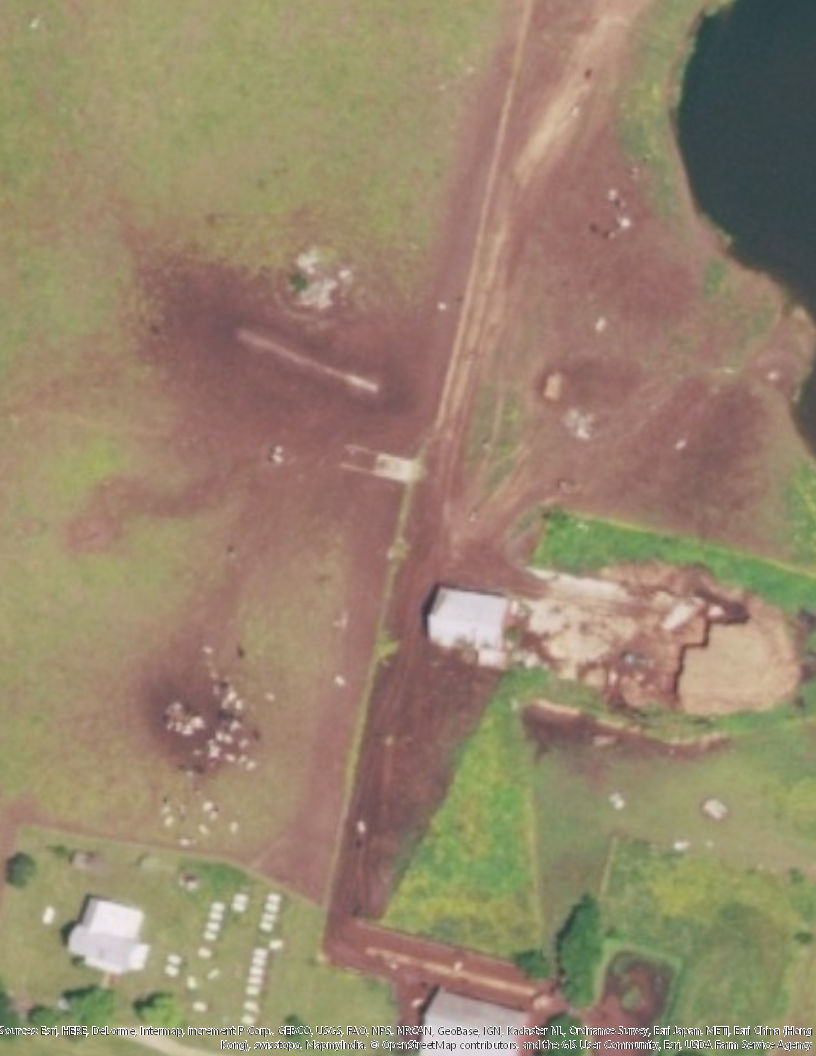cafo: (416, 569, 714, 710)
